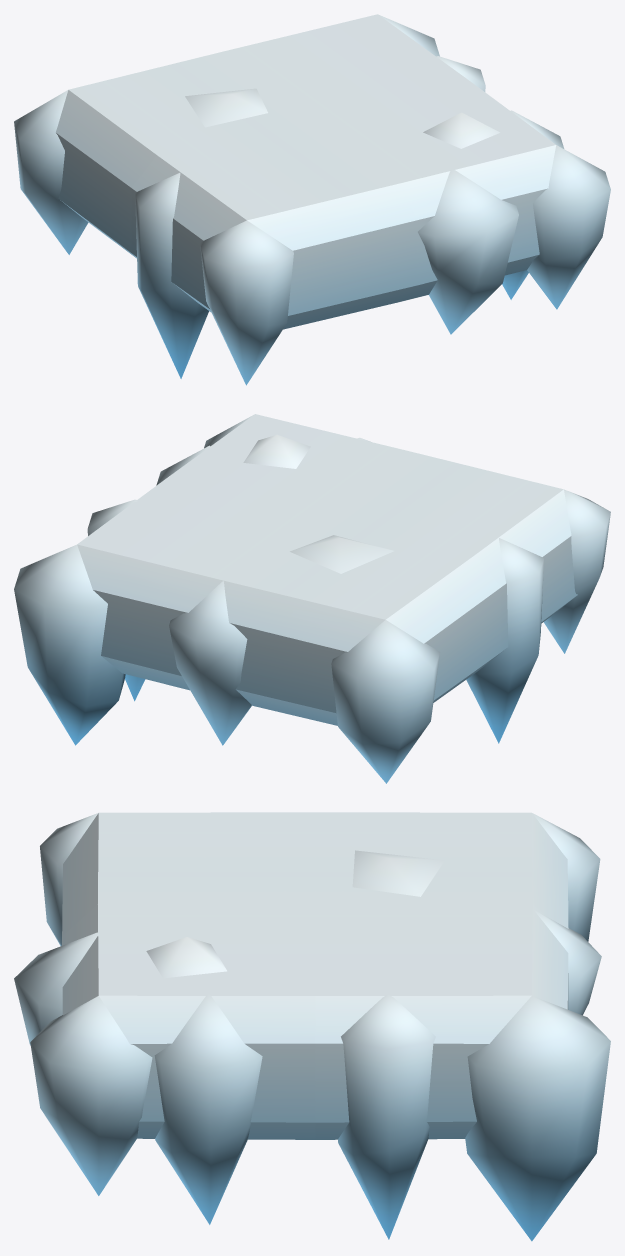
File: m_deco_floorSnow_plate.FBX
3 renders of one model, top to bottom at view 1: azimuth 30°, elevation 25°; view 2: azimuth 150°, elevation 25°; view 3: azimuth 270°, elevation 25°, orthographic. The views are drawn at different scales.
Visible parts, largest first — view 1: m_deco_floorSnow_plate; view 2: m_deco_floorSnow_plate; view 3: m_deco_floorSnow_plate.
Part boxes in pixels (<box>): m_deco_floorSnow_plate: <box>14,14,610,385</box>; m_deco_floorSnow_plate: <box>14,414,610,783</box>; m_deco_floorSnow_plate: <box>14,812,610,1241</box>.
Bounding box in the file's own units: 2.51 × 1.31 × 2.58.
